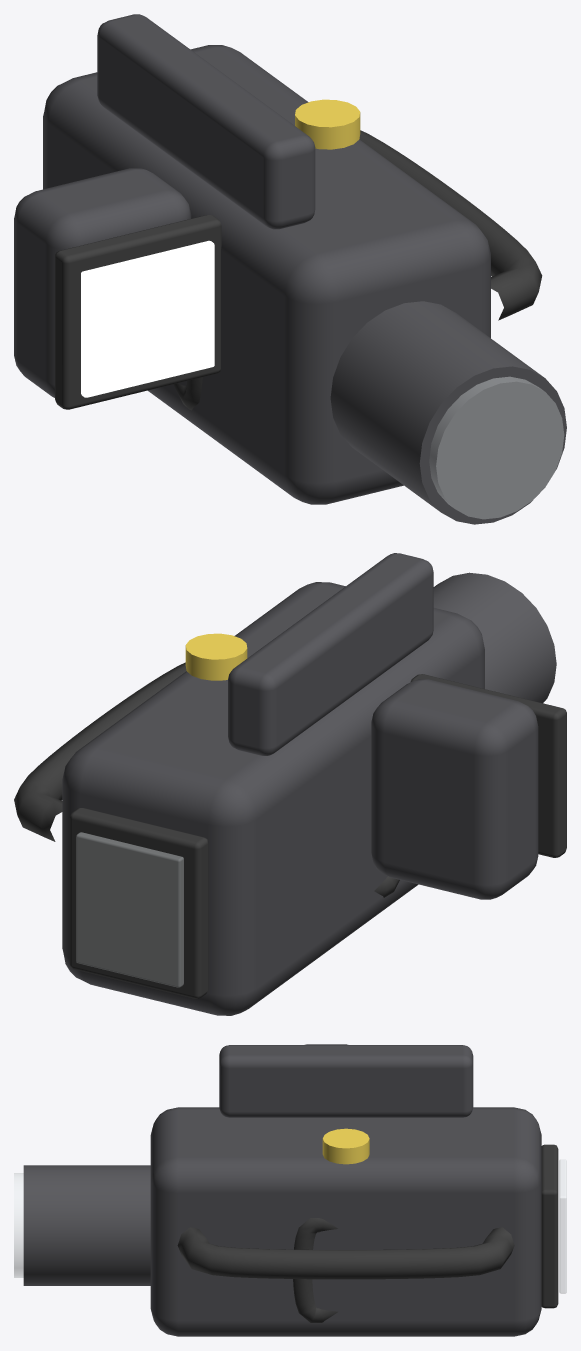
File: paranormal-investigation-house-handheld-camcorder-0c59e26d.glb
3 views of the same model, one above another, from view 1: azimuth 30°, elevation 25°; view 2: azimuth 150°, elevation 25°; view 3: azimuth 270°, elevation 25° (orthographic). The views are drawn at different scales.
Parts seen in each view (by area): view 1: handheld-camcorder; view 2: handheld-camcorder; view 3: handheld-camcorder.
Part boxes in pixels (x1=…): handheld-camcorder: x1=14, y1=14, x2=566, y2=524; handheld-camcorder: x1=14, y1=553, x2=566, y2=1015; handheld-camcorder: x1=14, y1=1044, x2=566, y2=1336.
Size of the model in its own units: 0.1896 by 0.135 by 0.283.
